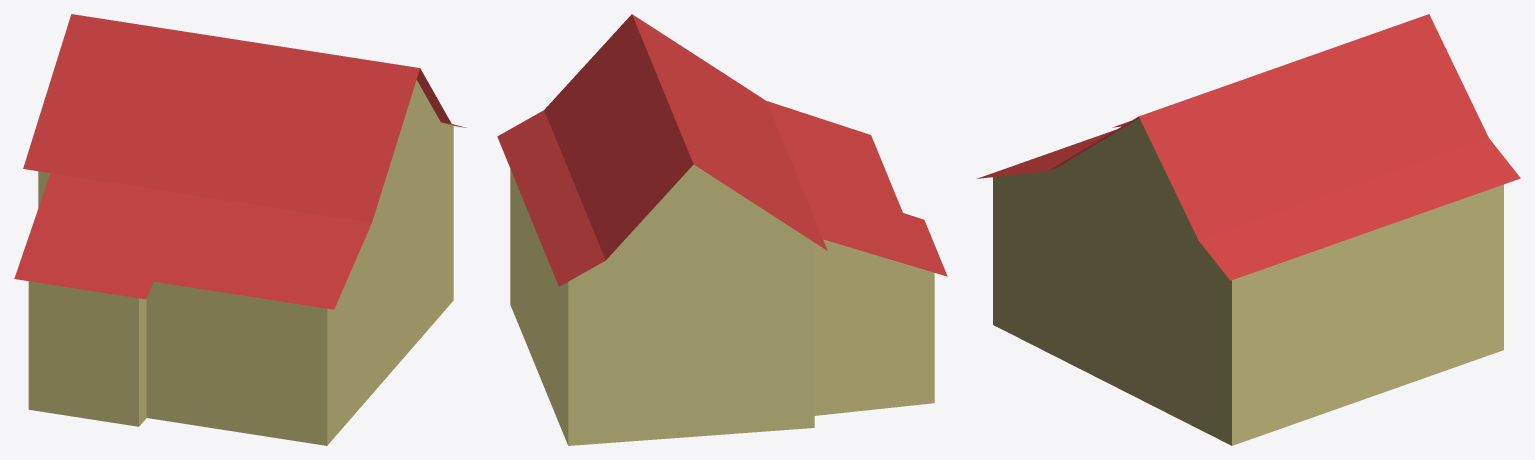
3 views of the same model, side by side, from view 1: azimuth 30°, elevation 25°; view 2: azimuth 150°, elevation 25°; view 3: azimuth 270°, elevation 25° (orthographic). The views are drawn at different scales.
Bounding box in the file's own units: 22.46 × 22.7 × 13.34.
